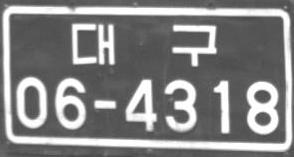0: (15, 75, 48, 129)
1: (208, 79, 240, 133)
3: (164, 79, 197, 132)
4: (125, 79, 157, 131)
6: (55, 77, 87, 129)
8: (245, 80, 279, 135)
대구_D: (71, 21, 217, 66)
